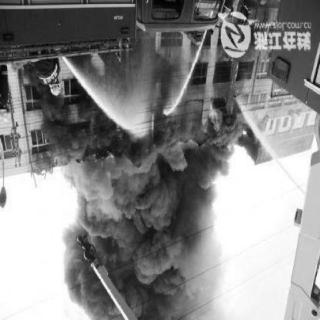Fire: (197, 91, 229, 142)
Smoke: (61, 126, 244, 320)
